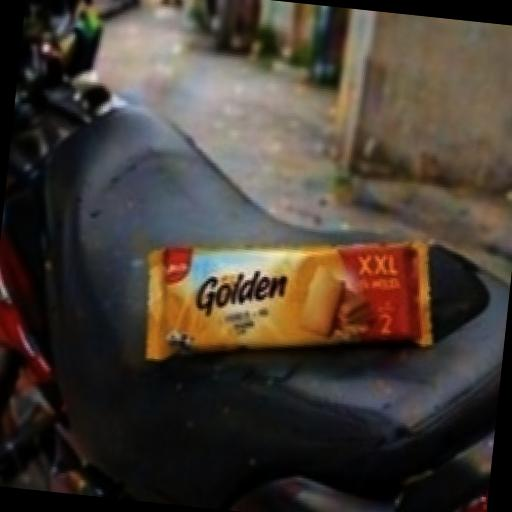golden: (80, 176, 490, 443)
